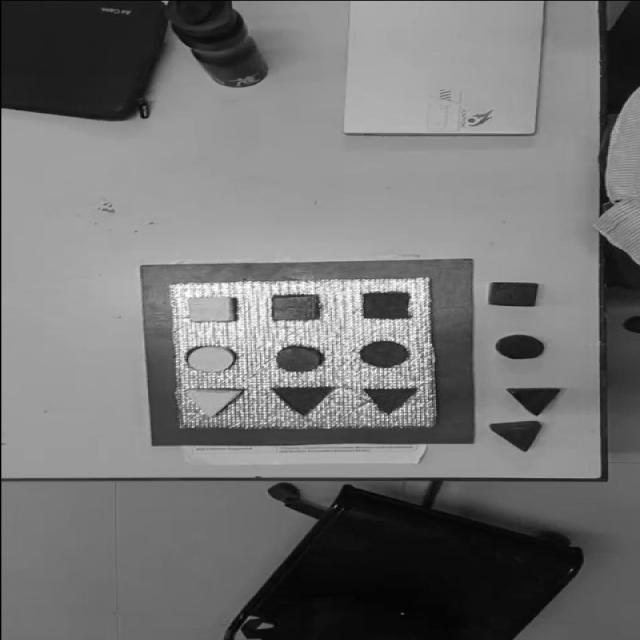bcircle: (494, 333, 546, 360)
bcube: (487, 281, 541, 308)
btriangle: (506, 386, 563, 416)
mtcircle: (358, 340, 411, 367)
mtcube: (362, 292, 412, 320)
mttriangle: (269, 385, 336, 417), (361, 386, 419, 414)
rcircle: (276, 346, 322, 372)
rcube: (269, 293, 320, 321)
rtriangle: (489, 419, 543, 450)
wb: (165, 277, 440, 430)
ycircle: (186, 344, 237, 372)
ycube: (186, 296, 237, 322)
ytriangle: (183, 388, 244, 418)
